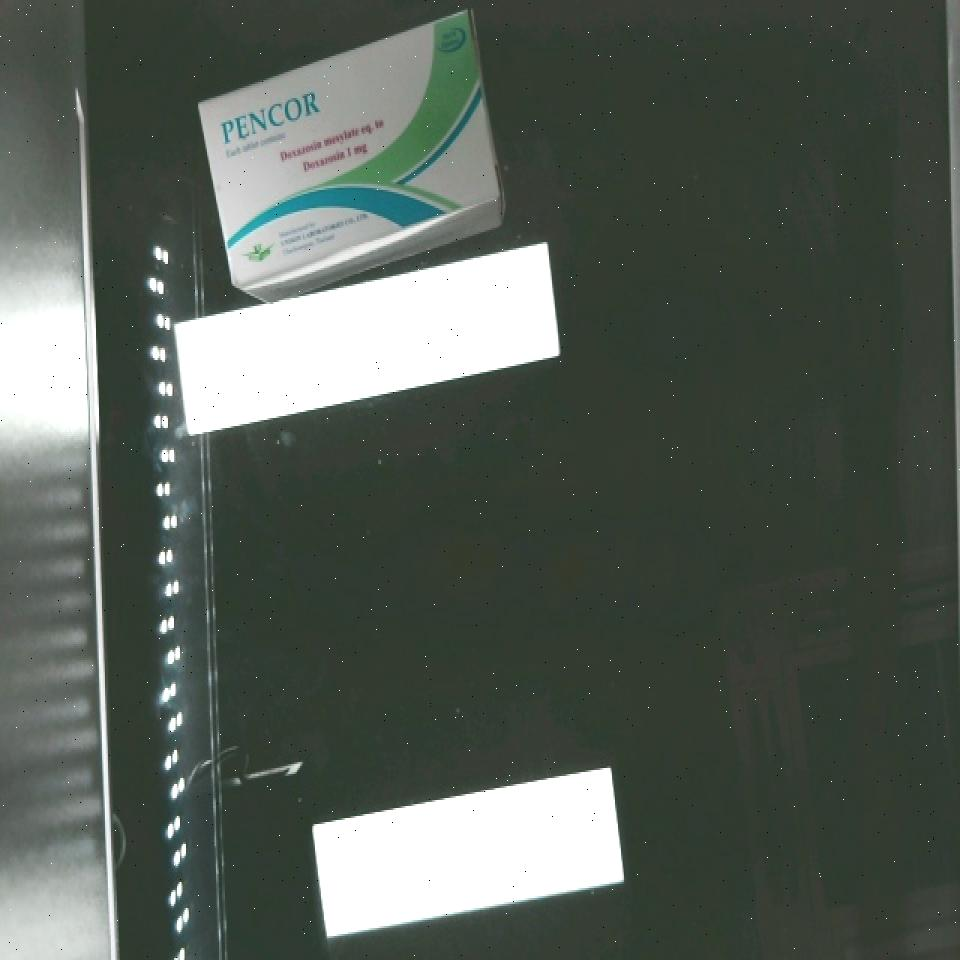medicine_box: (174, 11, 529, 287)
medicine_label_obb: (199, 63, 342, 158)
